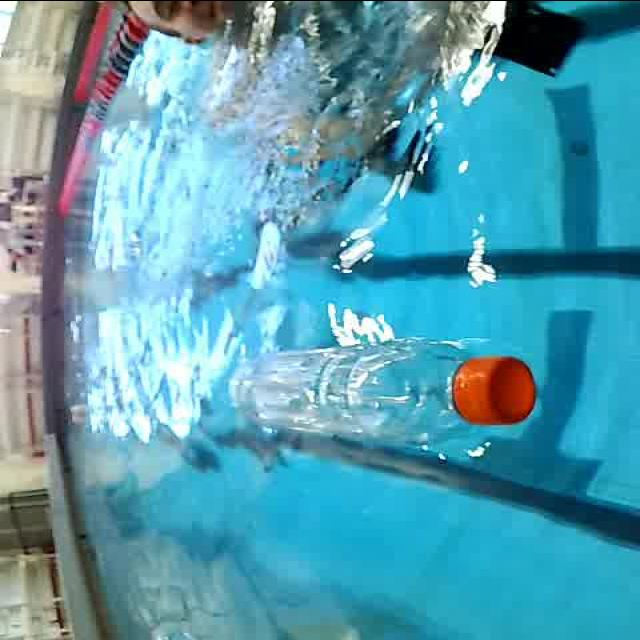Bottle: (224, 332, 542, 456)
